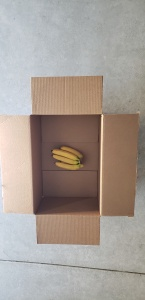innerbox: (30, 114, 100, 216)
outerbox: (2, 77, 136, 243)
product: (52, 140, 82, 169)
